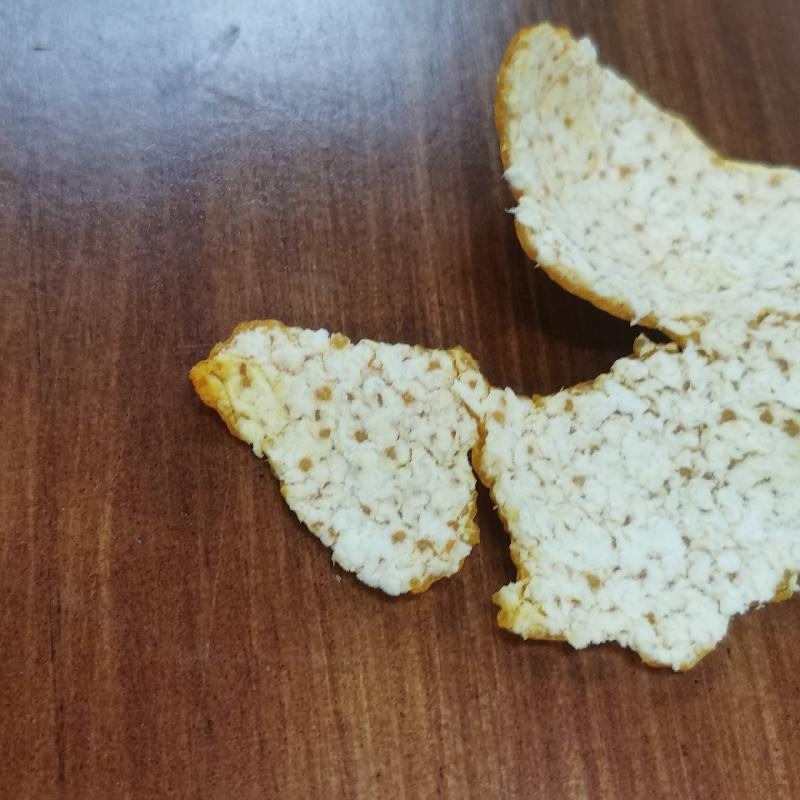orange: (199, 22, 800, 660)
